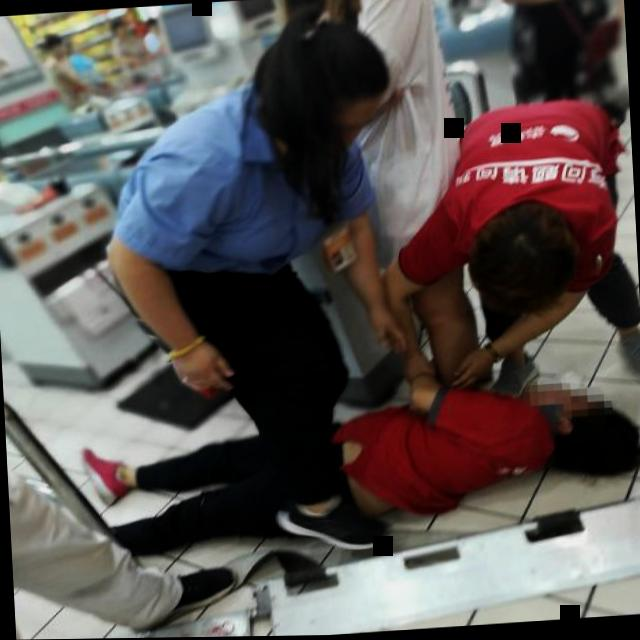Fall-Detected: (35, 332, 640, 573)
